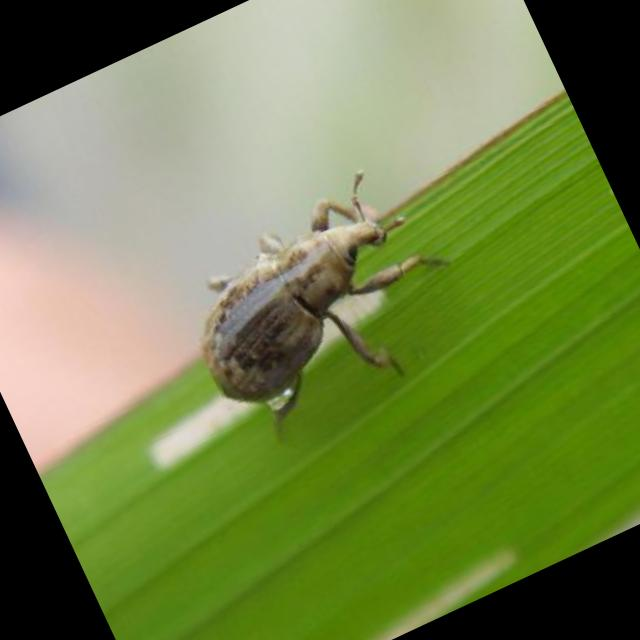rice-bug: (141, 156, 473, 454)
